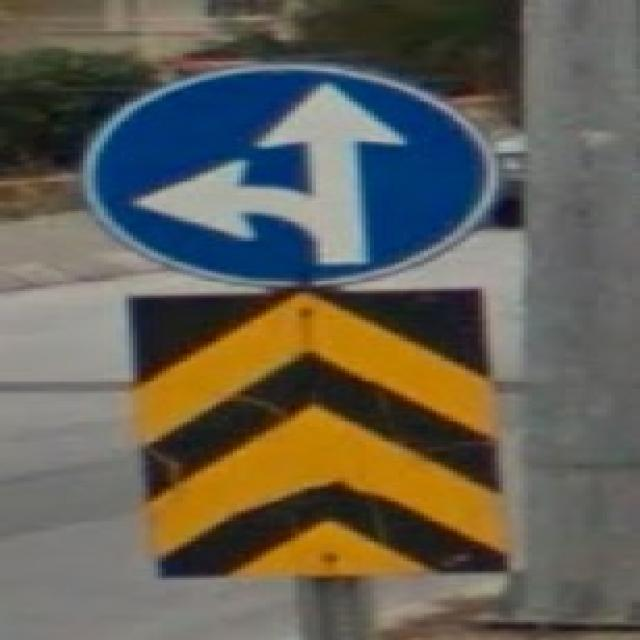Straight or Left: (82, 64, 498, 286)
